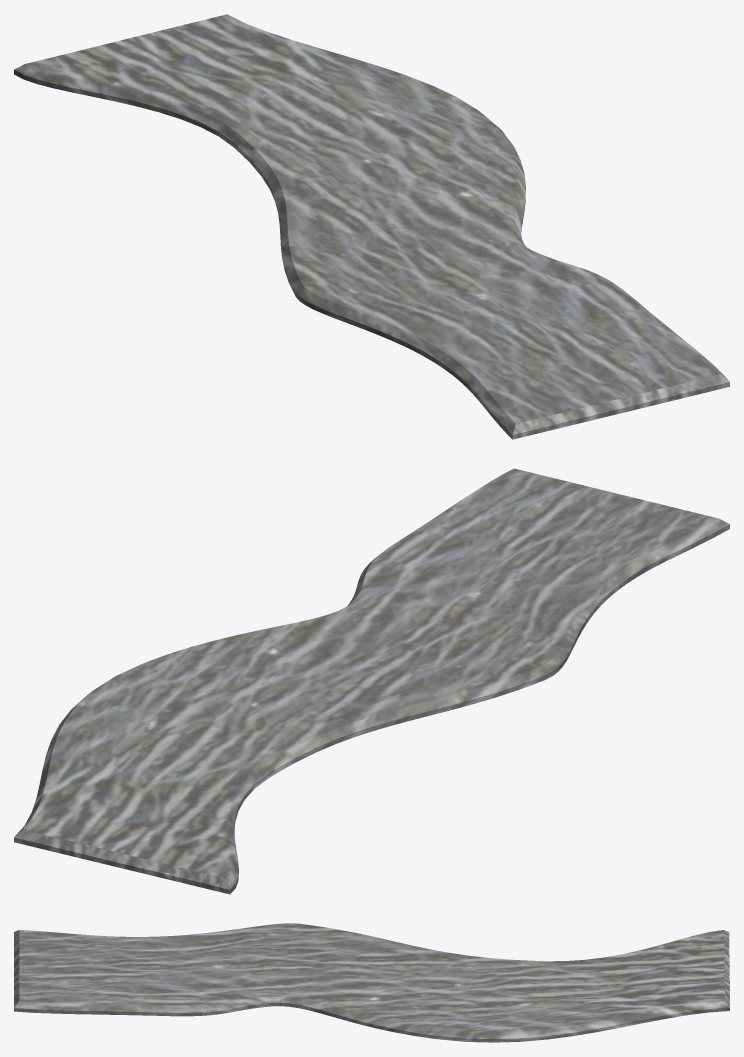
File: cf_ta_riv.obj
3 renders of one model, top to bottom at view 1: azimuth 30°, elevation 25°; view 2: azimuth 150°, elevation 25°; view 3: azimuth 270°, elevation 25°, orthographic. The views are drawn at different scales.
Parts seen in each view (by area): view 1: BezierCurve.002_Mesh; view 2: BezierCurve.002_Mesh; view 3: BezierCurve.002_Mesh.
Boxes of the visible parts, left/top/right/bottom form: BezierCurve.002_Mesh: left=14, top=14, right=729, bottom=439; BezierCurve.002_Mesh: left=14, top=468, right=729, bottom=894; BezierCurve.002_Mesh: left=14, top=923, right=729, bottom=1042.
Bounding box in the file's own units: 5.81 × 0.1938 × 15.51.
